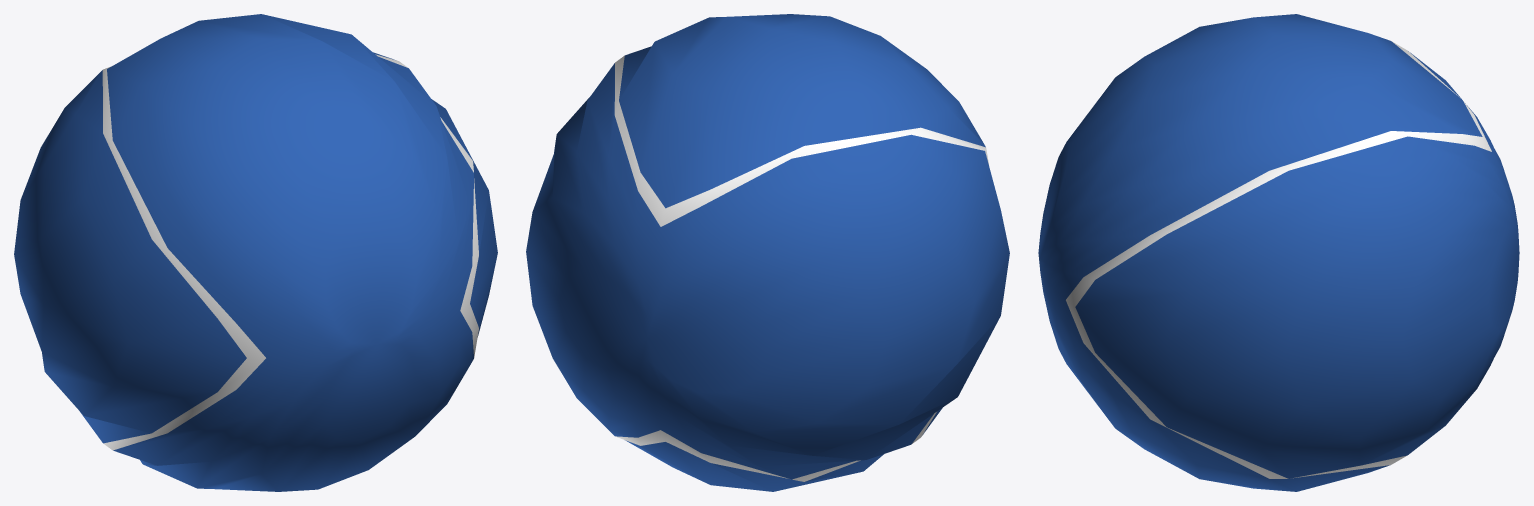
Rendered from ball.fbx.
3 views of the same model, side by side, from view 1: azimuth 30°, elevation 25°; view 2: azimuth 150°, elevation 25°; view 3: azimuth 270°, elevation 25° (orthographic).
Visible parts, largest first — view 1: Ball; view 2: Ball; view 3: Ball.
Boxes of the visible parts, left/top/right/bottom form: Ball: left=14, top=14, right=497, bottom=491; Ball: left=526, top=14, right=1009, bottom=491; Ball: left=1038, top=14, right=1519, bottom=491.
Size of the model in its own units: 0.3999 by 0.3999 by 0.4.
